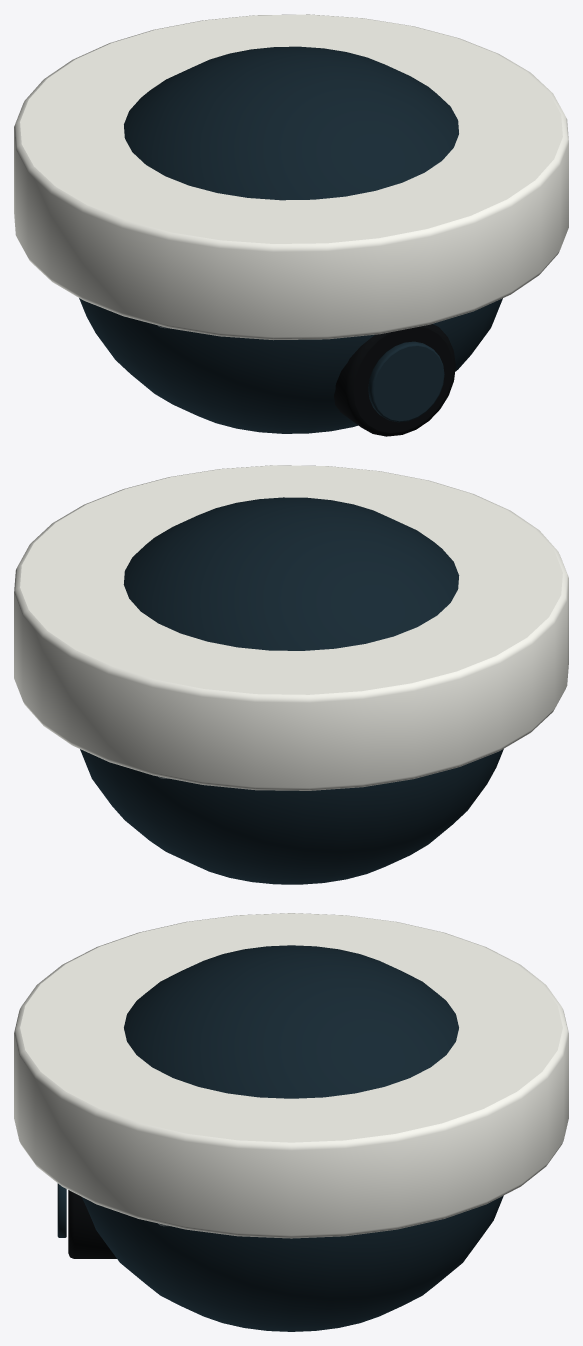
File: OAA_CCTV_Dome.fbx
3 renders of one model, top to bottom at view 1: azimuth 30°, elevation 25°; view 2: azimuth 150°, elevation 25°; view 3: azimuth 270°, elevation 25°, orthographic.
Parts seen in each view (by area): view 1: Body; view 2: Body; view 3: Body.
Boxes of the visible parts, x1=… form: Body: x1=14, y1=14, x2=568, y2=436; Body: x1=14, y1=465, x2=568, y2=884; Body: x1=14, y1=913, x2=568, y2=1331.
Size of the model in its own units: 0.184 by 0.124 by 0.184.
